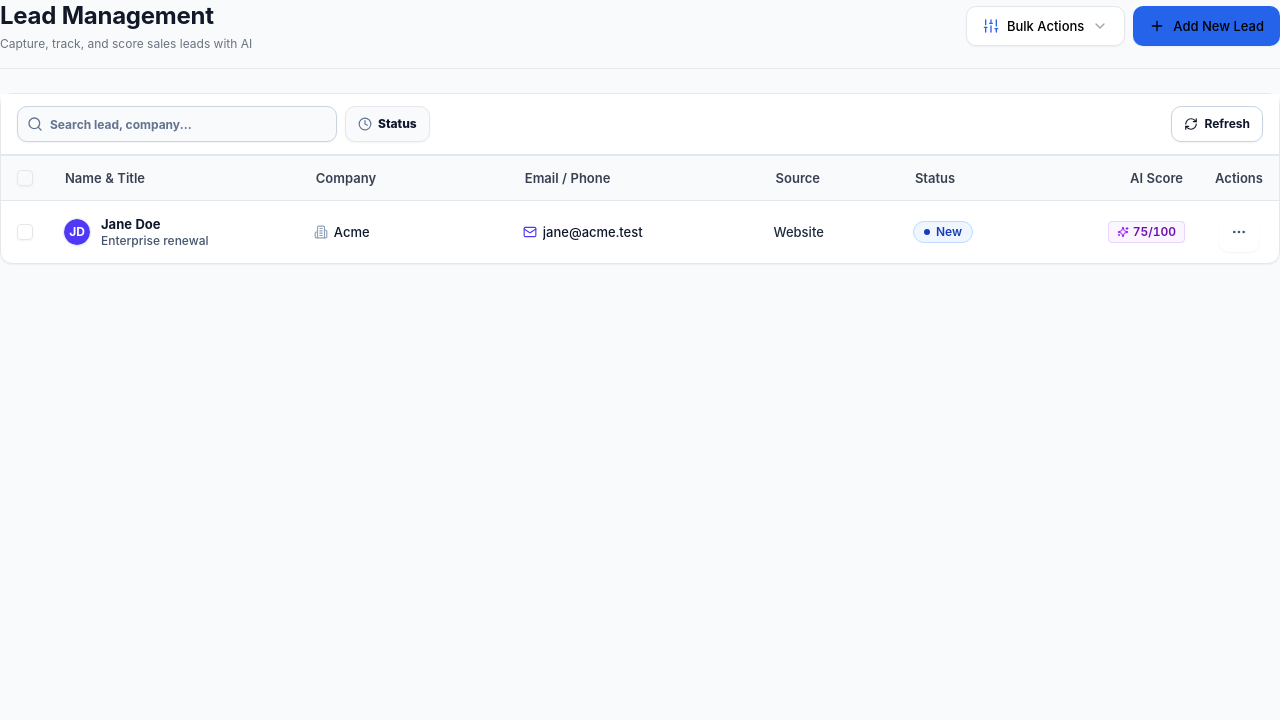
LeadsPage list UX › keeps a failed bulk-delete error visible in the confirmation dialog
What coordinates should you click on to do the following:
click the checkbox named "Select Jane Doe"
I would click on:
 (25, 232)
Its box is left=17, top=224, right=33, bottom=240.
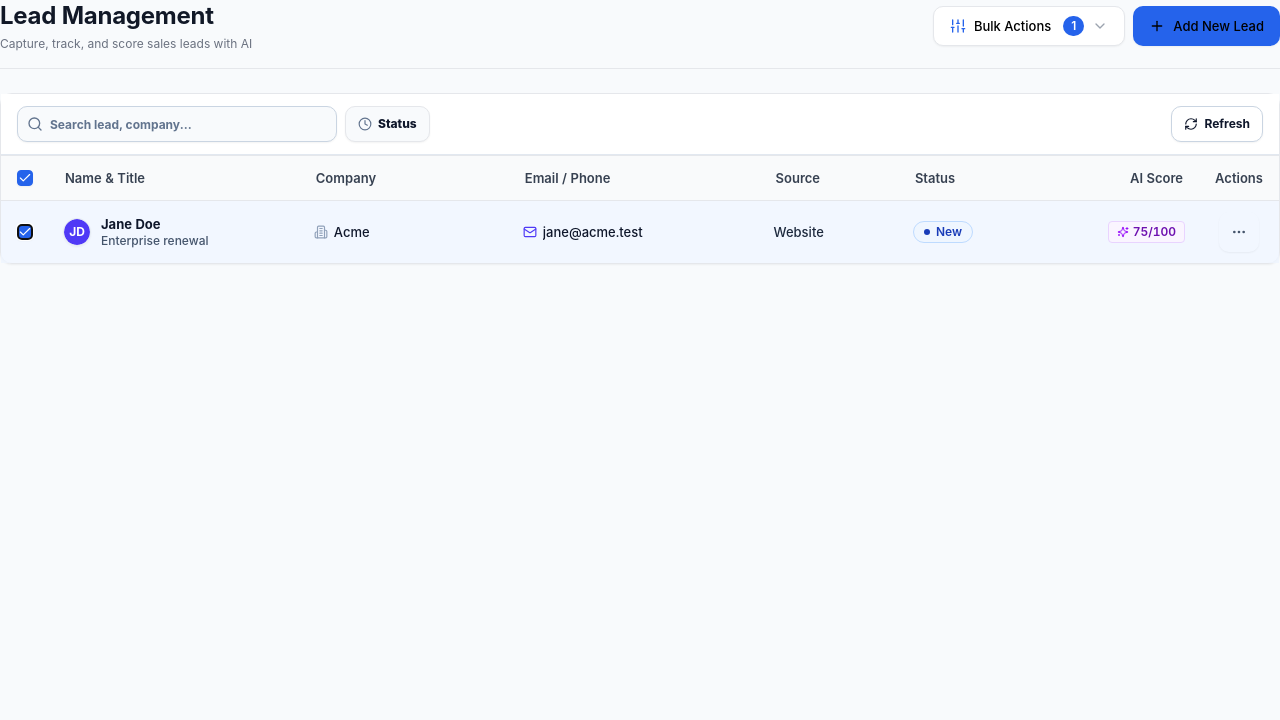
What coordinates should you click on to do the following:
click the button "Bulk Actions 1"
I would click on:
 (1029, 26)
Its box is left=933, top=6, right=1125, bottom=46.
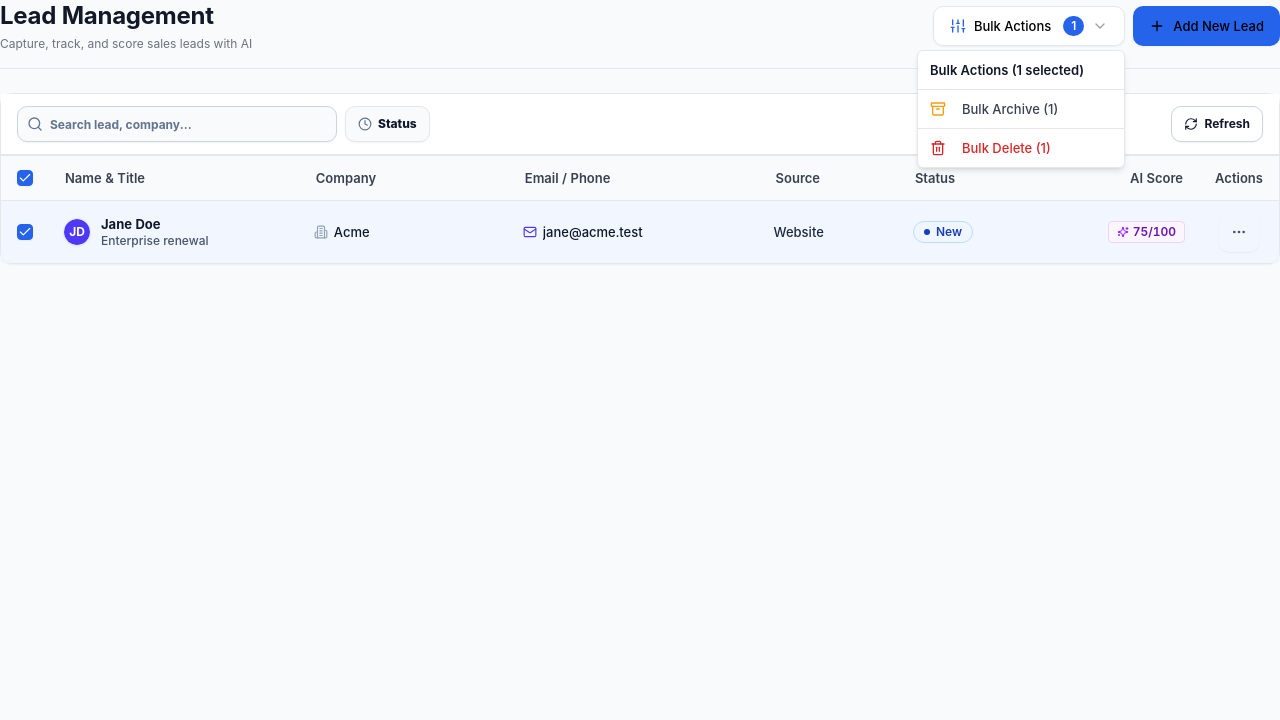
What coordinates should you click on to do the following:
click the menu item "Bulk Delete (1)"
I would click on:
 (990, 148)
Its box is left=930, top=140, right=1051, bottom=156.
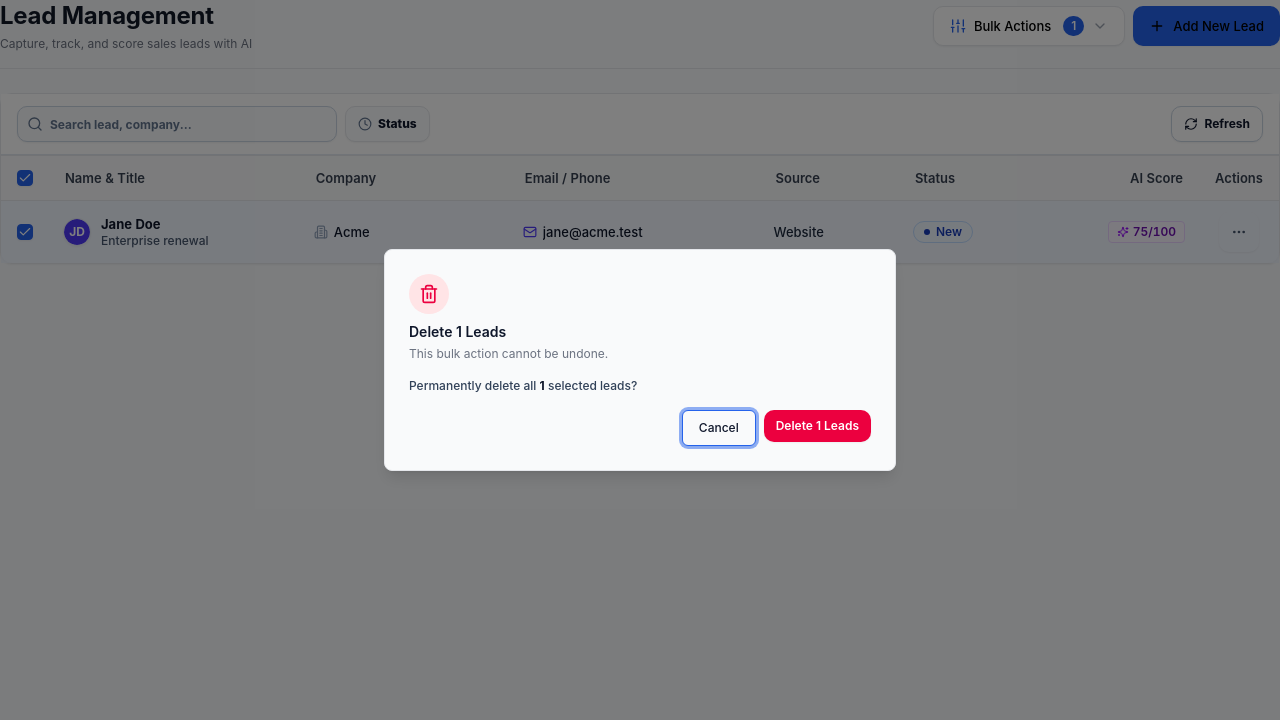
What coordinates should you click on to do the following:
click the button "Delete 1 Leads"
I would click on:
 (817, 426)
Its box is left=764, top=410, right=871, bottom=442.
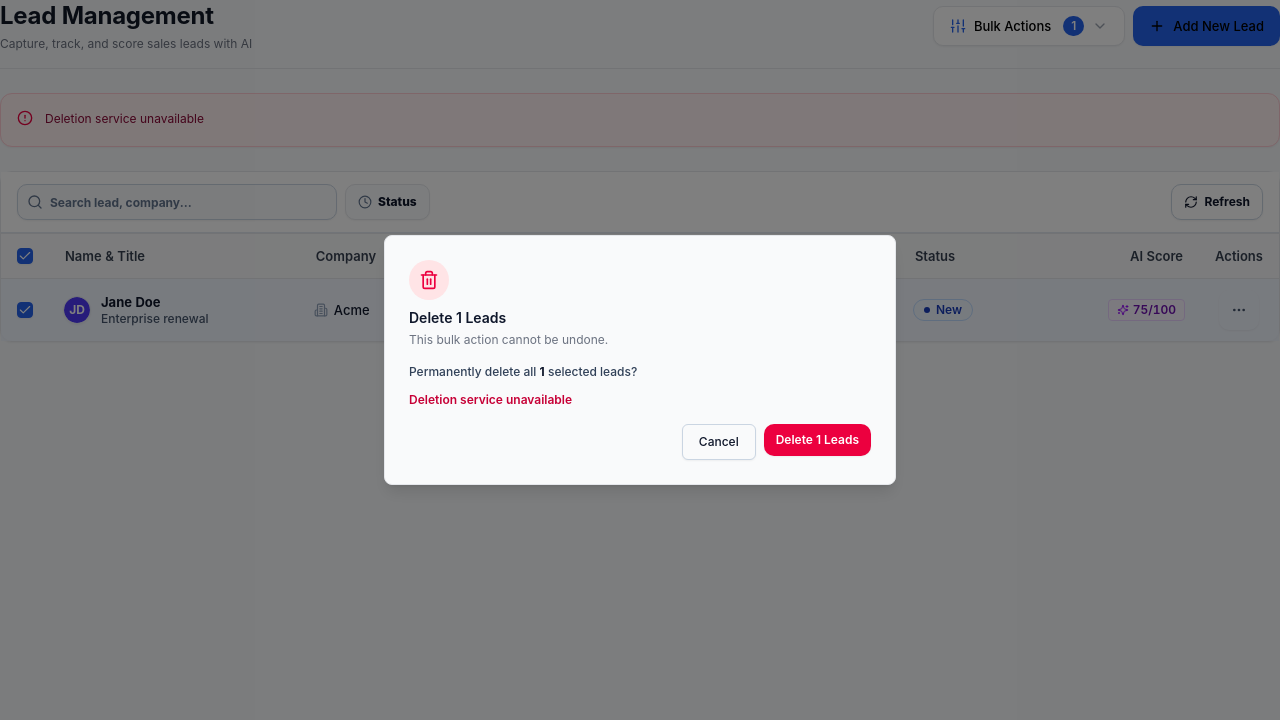
Check: the text "Deletion service unavailable" is shown, box left=409, top=392, right=572, bottom=407
